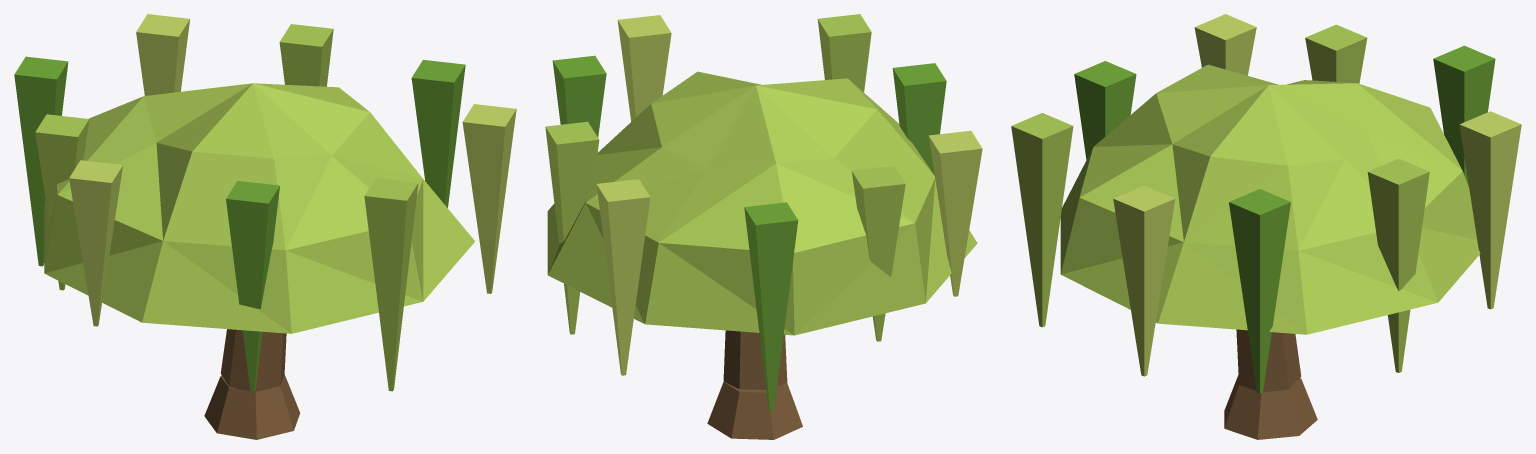
Rendered from tree_willow_1.glb.
3 renders of one model, left to right at view 1: azimuth 30°, elevation 25°; view 2: azimuth 150°, elevation 25°; view 3: azimuth 270°, elevation 25°, orthographic.
Visible parts, largest first — view 1: tree_willow_1; view 2: tree_willow_1; view 3: tree_willow_1.
Part boxes in pixels (x1,y1,x2,y2): tree_willow_1: (14, 14, 516, 439); tree_willow_1: (545, 14, 982, 439); tree_willow_1: (1011, 14, 1521, 439).
Size of what is drawn, in the model's own units: 6.35 by 4.92 by 6.81.
